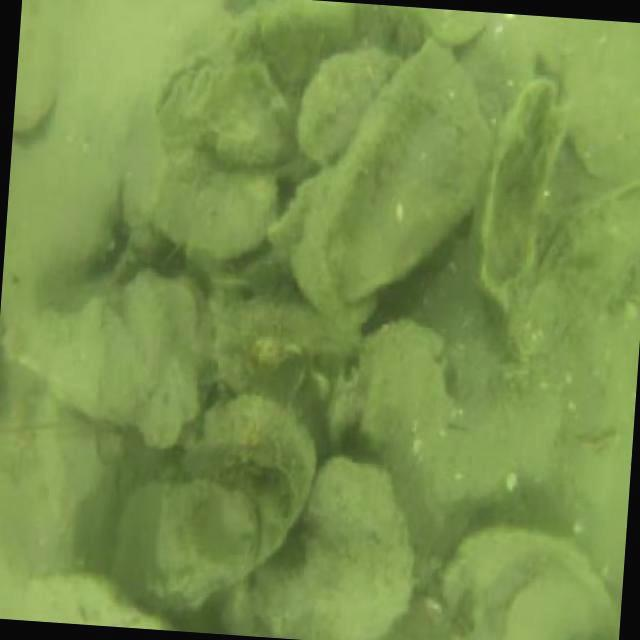Oyster-Closed: (270, 29, 488, 325), (3, 273, 203, 451), (329, 311, 452, 563), (255, 456, 412, 638), (215, 288, 360, 447), (182, 392, 318, 561), (115, 475, 258, 609), (292, 46, 404, 161), (150, 156, 280, 251)
Oyster-Open: (484, 78, 566, 351)
